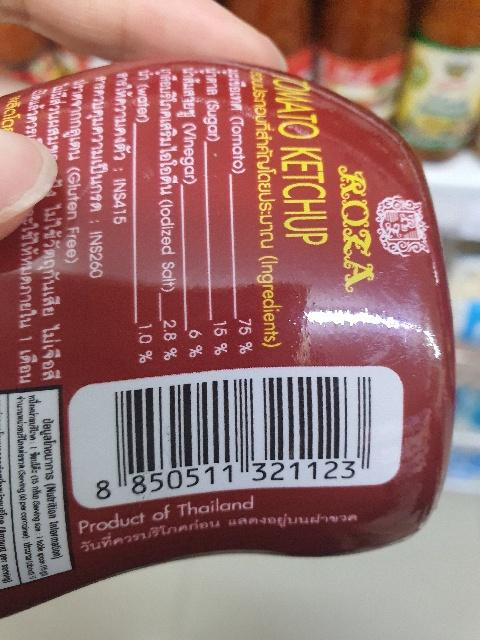Barcode: (91, 367, 383, 501)
